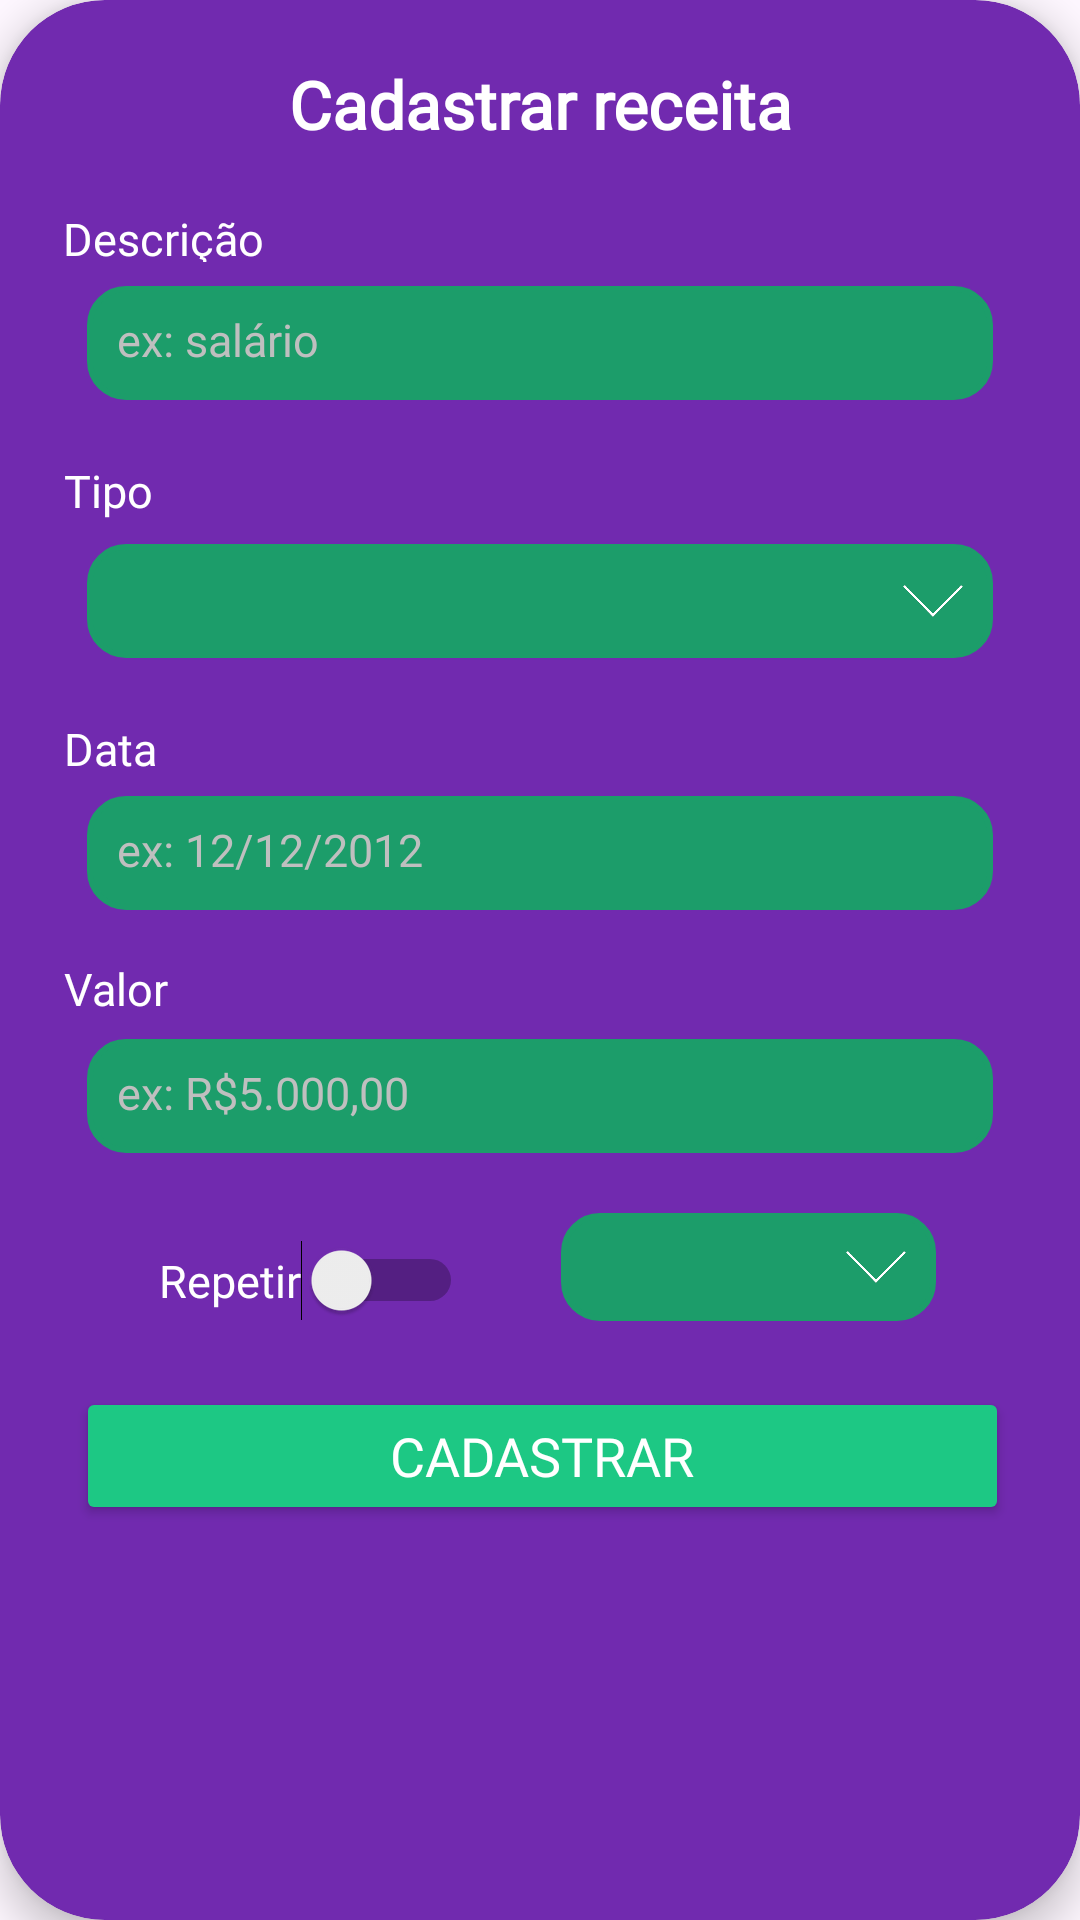

Icon bounding boxes for this 1080 × 1920 phone screenshot, format box=[x1, y1, x2, y2]:
seta spinner: box=[903, 585, 963, 617], box=[846, 1251, 906, 1283]
